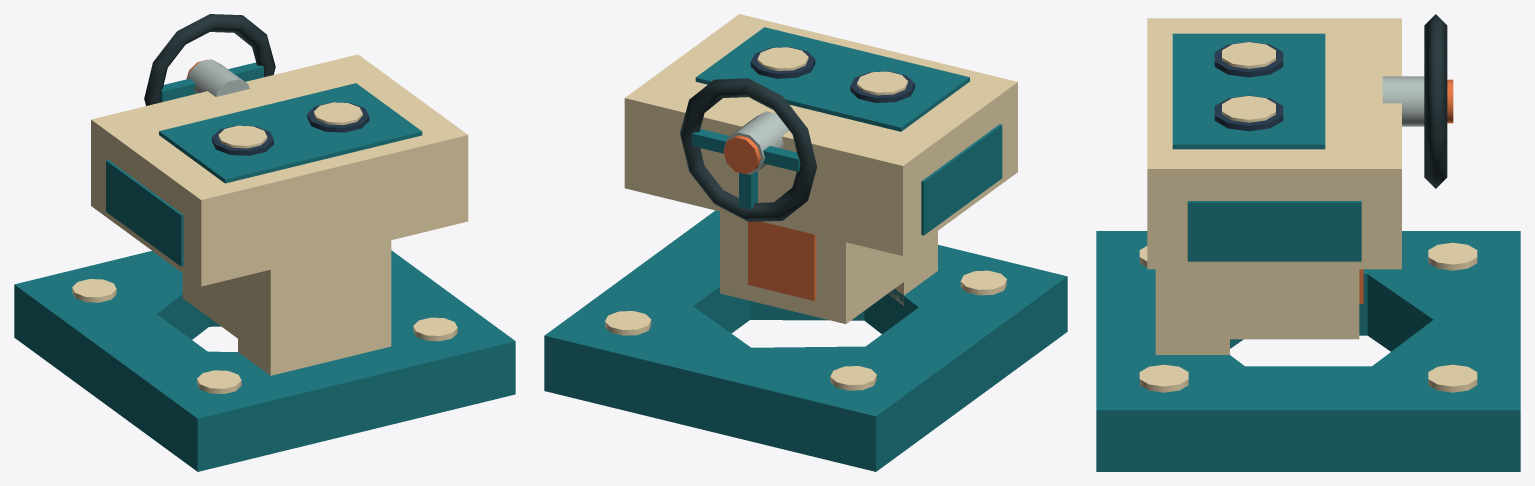
File: helm-lod-2.glb
3 views of the same model, side by side, from view 1: azimuth 30°, elevation 25°; view 2: azimuth 150°, elevation 25°; view 3: azimuth 270°, elevation 25° (orthographic). The views are drawn at different scales.
Parts seen in each view (by area): view 1: helm_lod_2; view 2: helm_lod_2; view 3: helm_lod_2.
Boxes of the visible parts, box(x1,y1,x2,y2) form: helm_lod_2: box(14, 14, 515, 471); helm_lod_2: box(544, 14, 1067, 471); helm_lod_2: box(1096, 14, 1520, 471).
Size of the model in its own units: 1 by 0.937 by 1.
